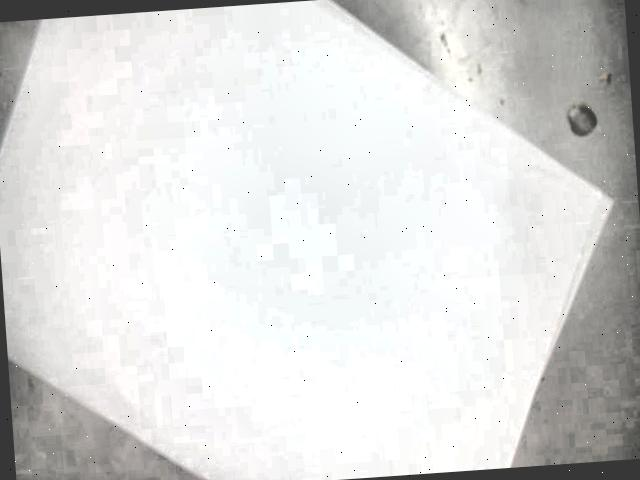Paper: (0, 0, 614, 480)
